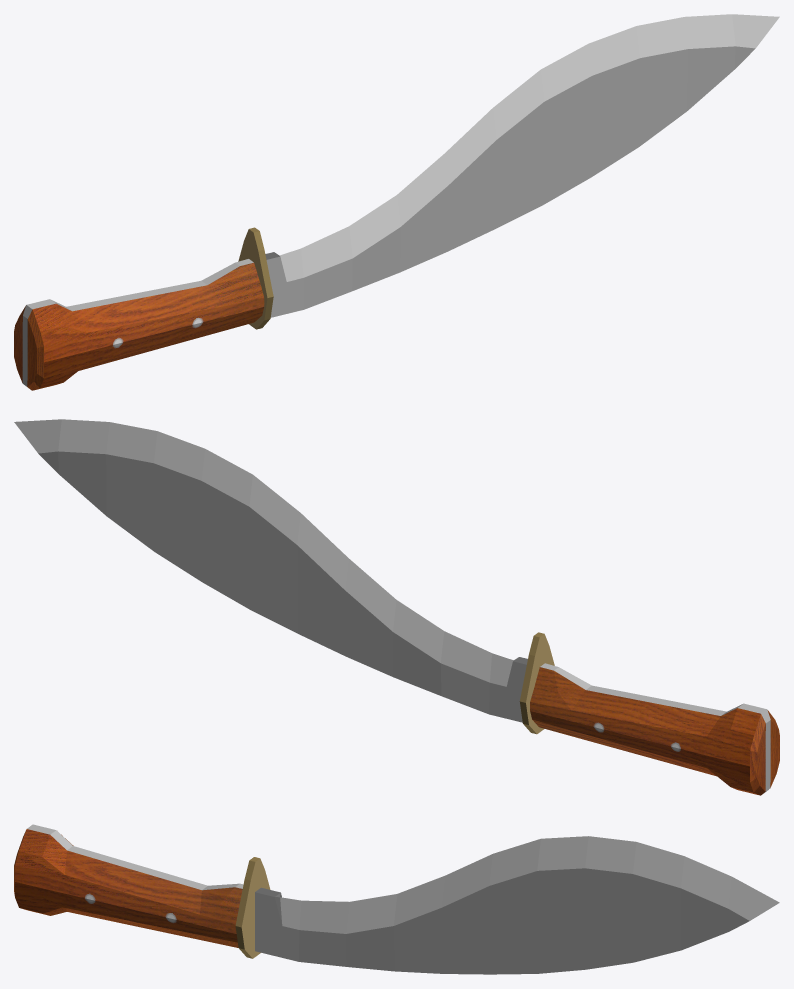
The model's file is Kukri.fbx.
3 renders of one model, top to bottom at view 1: azimuth 30°, elevation 25°; view 2: azimuth 150°, elevation 25°; view 3: azimuth 330°, elevation 25°, orthographic.
Parts seen in each view (by area): view 1: ZomboidKukri; view 2: ZomboidKukri; view 3: ZomboidKukri.
Boxes of the visible parts, x1,y1,x2,y2 form: ZomboidKukri: (14, 14, 779, 390); ZomboidKukri: (14, 419, 779, 795); ZomboidKukri: (14, 824, 779, 974).
Bounding box in the file's own units: 0.4399 × 0.1194 × 0.0329.
